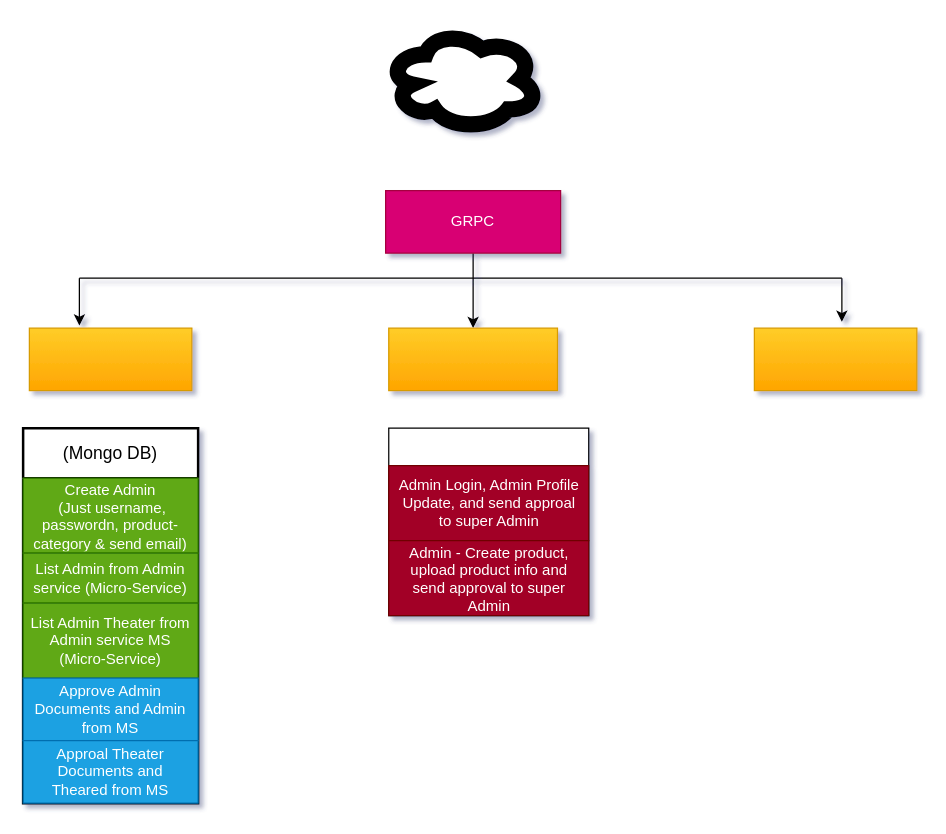
Image size: 946x834. Some labels were removed from this diagram. The shapes that lost their labels are listed below. From the top down, each one's box as (x1, y1, x2, y2) in pixels, then its label:
(379, 21, 546, 137): m1
(28, 327, 192, 391): Super Admin
(388, 327, 558, 391): Admin
(753, 327, 917, 391): User
(388, 427, 589, 616): MySql
